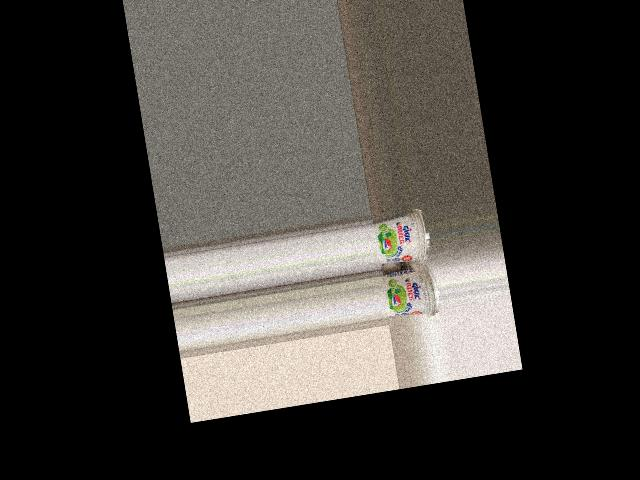cotage: (371, 211, 432, 269)
